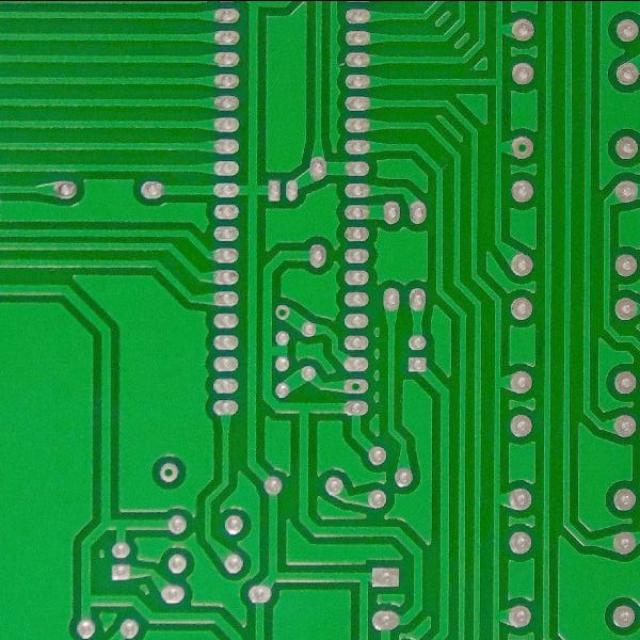Missing_Hole: (510, 134, 535, 160), (343, 375, 370, 396), (158, 461, 181, 483), (274, 303, 292, 321)
